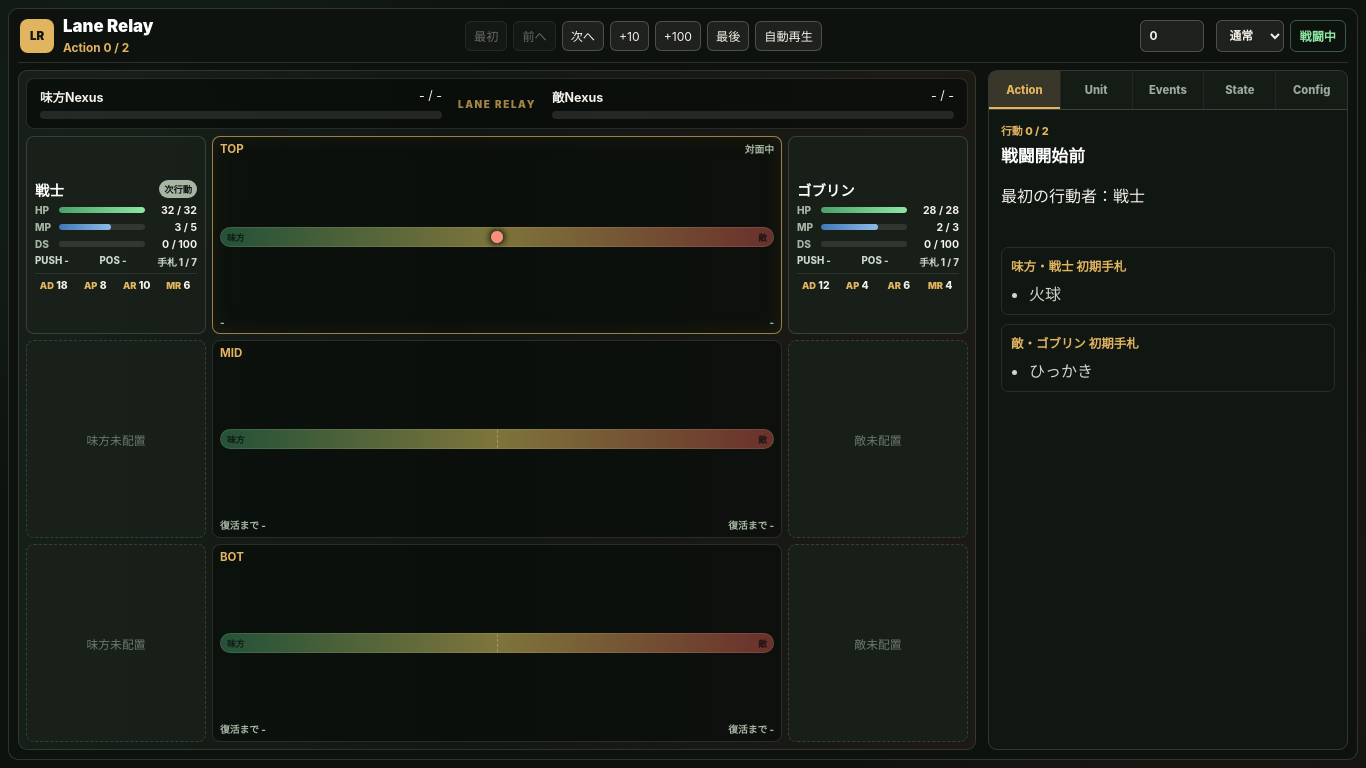
Test: App › autoplay disables manual movement and jump while pause remains available
Click the button "自動再生" at [789, 36], box 755,21 -> 822,51
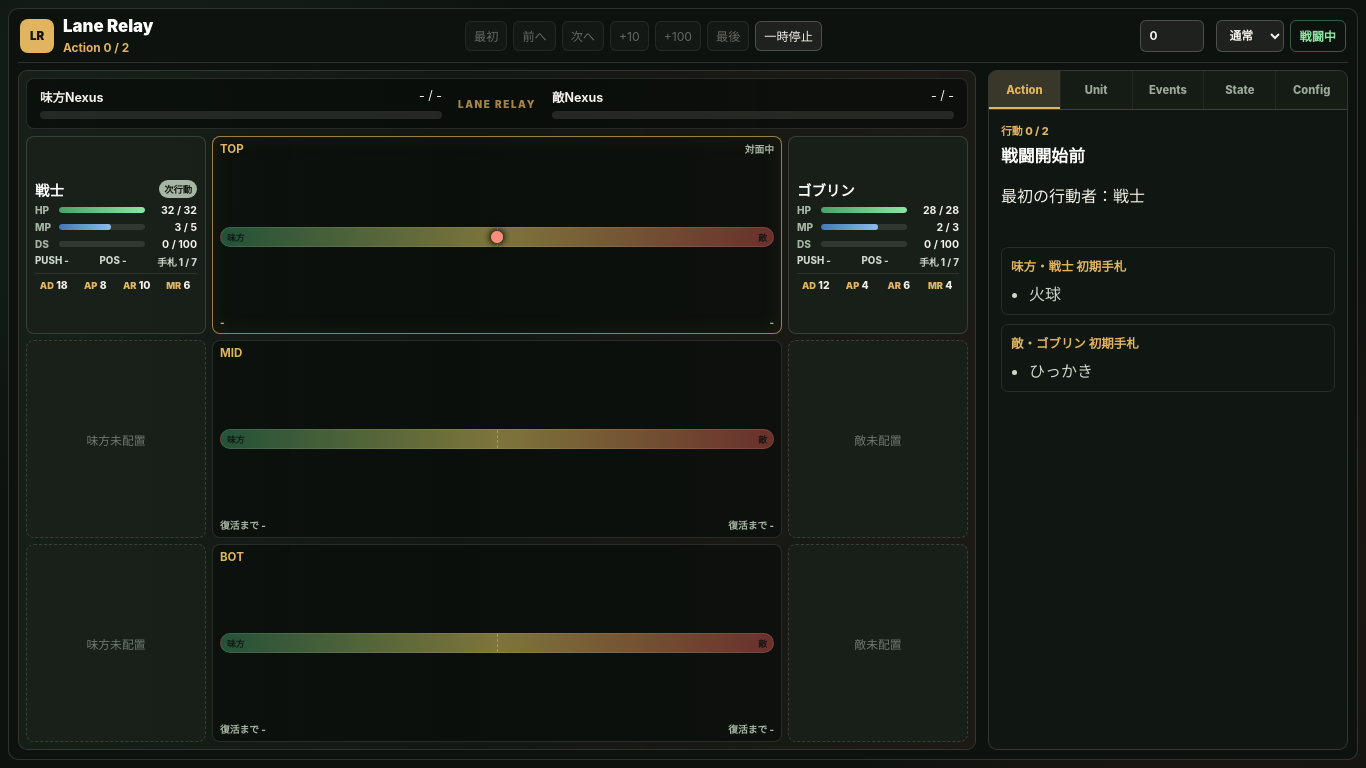
expect the button "次へ" is disabled: met, box 562,21 -> 604,51
expect the button "+10" is disabled: met, box 610,21 -> 649,51
expect the button "+100" is disabled: met, box 655,21 -> 701,51
Click the button "一時停止" at [789, 36], box 755,21 -> 822,51
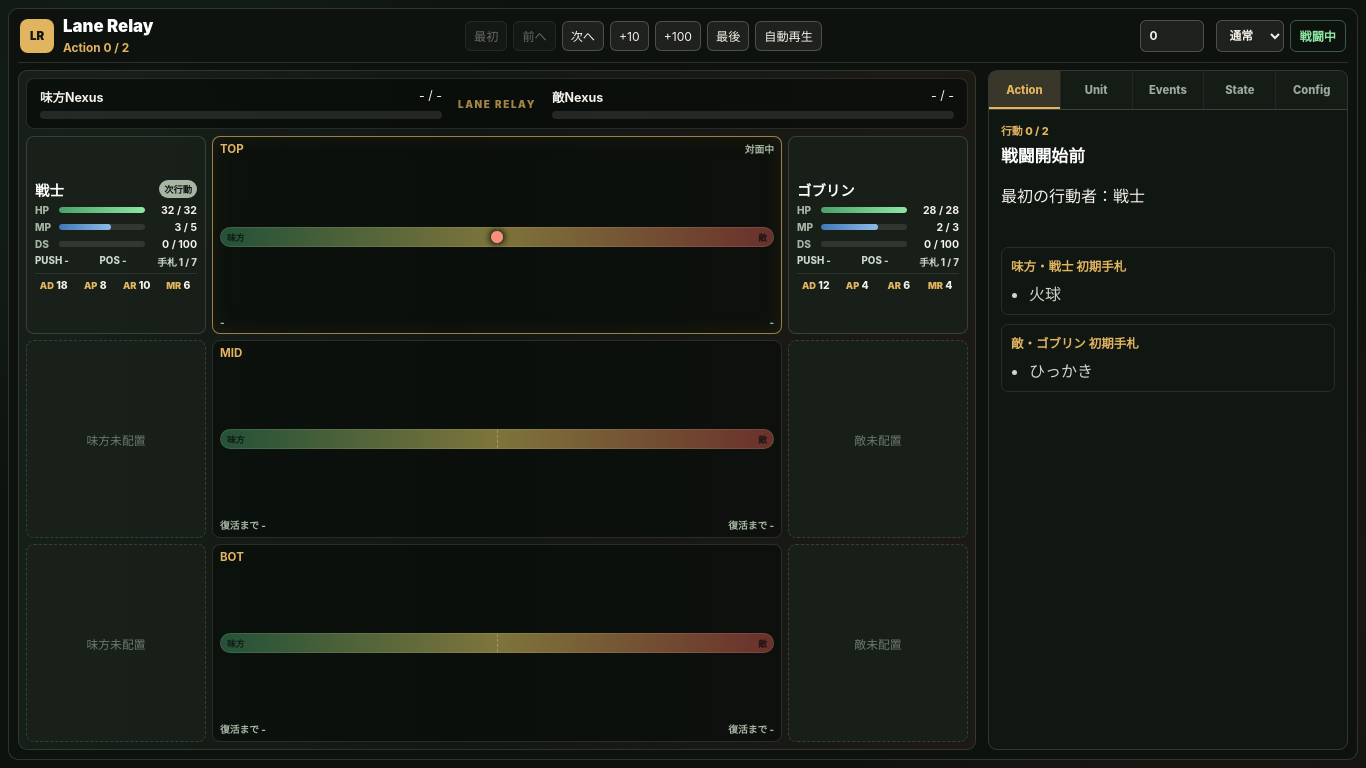
expect the text "自動再生" is shown: met, box 755,21 -> 822,51
